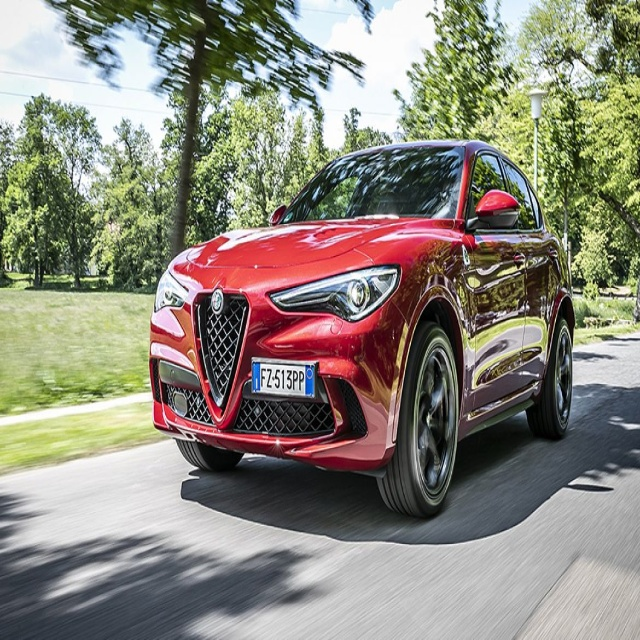Car: (148, 138, 575, 521)
